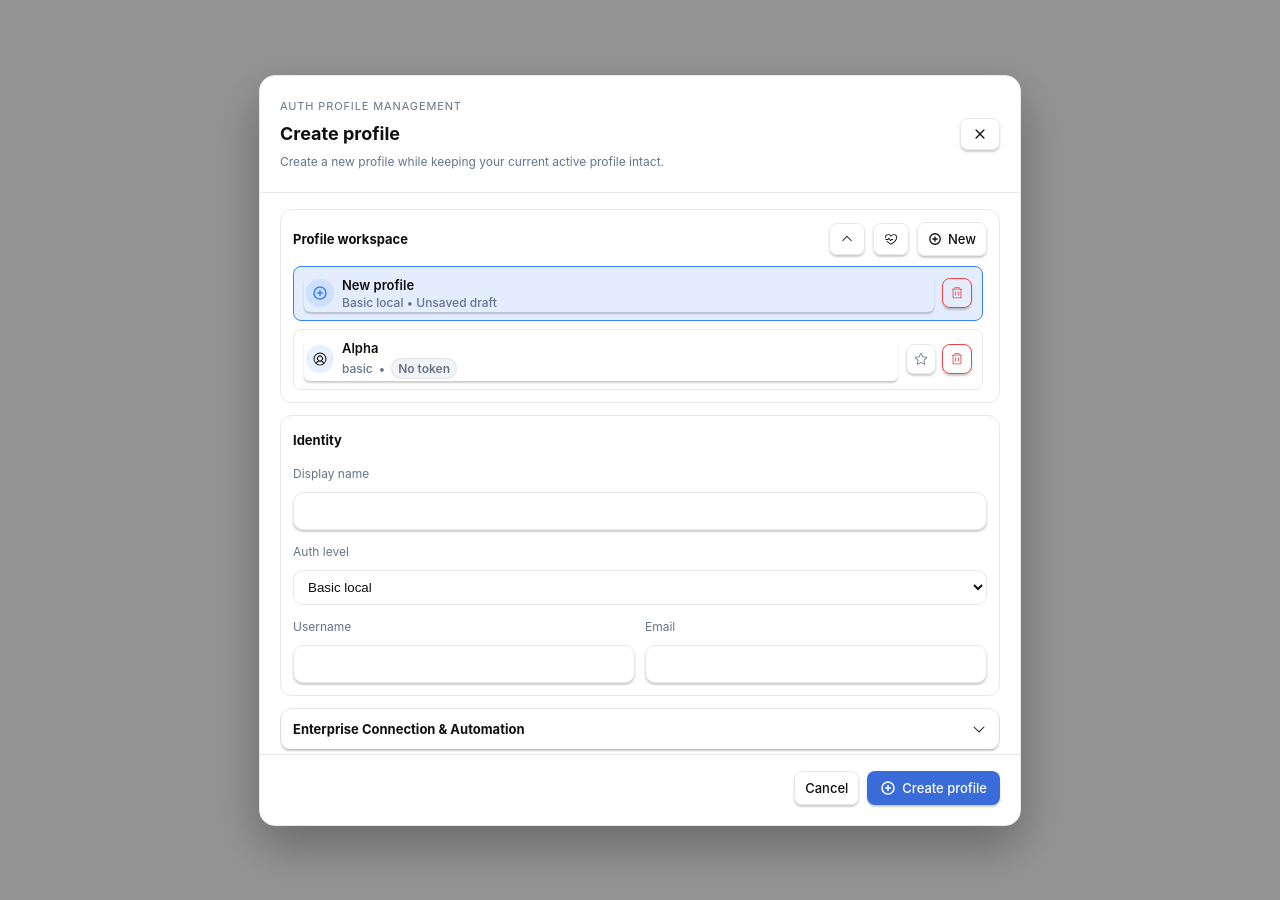
Test case: ProfileManagementModal › keeps the modal open and switches to editing after creating a new profile
This screenshot has width=1280, height=900.
Step 1. Click the button "Create profile" → (934, 788), box x1=867 y1=770 x2=1000 y2=804
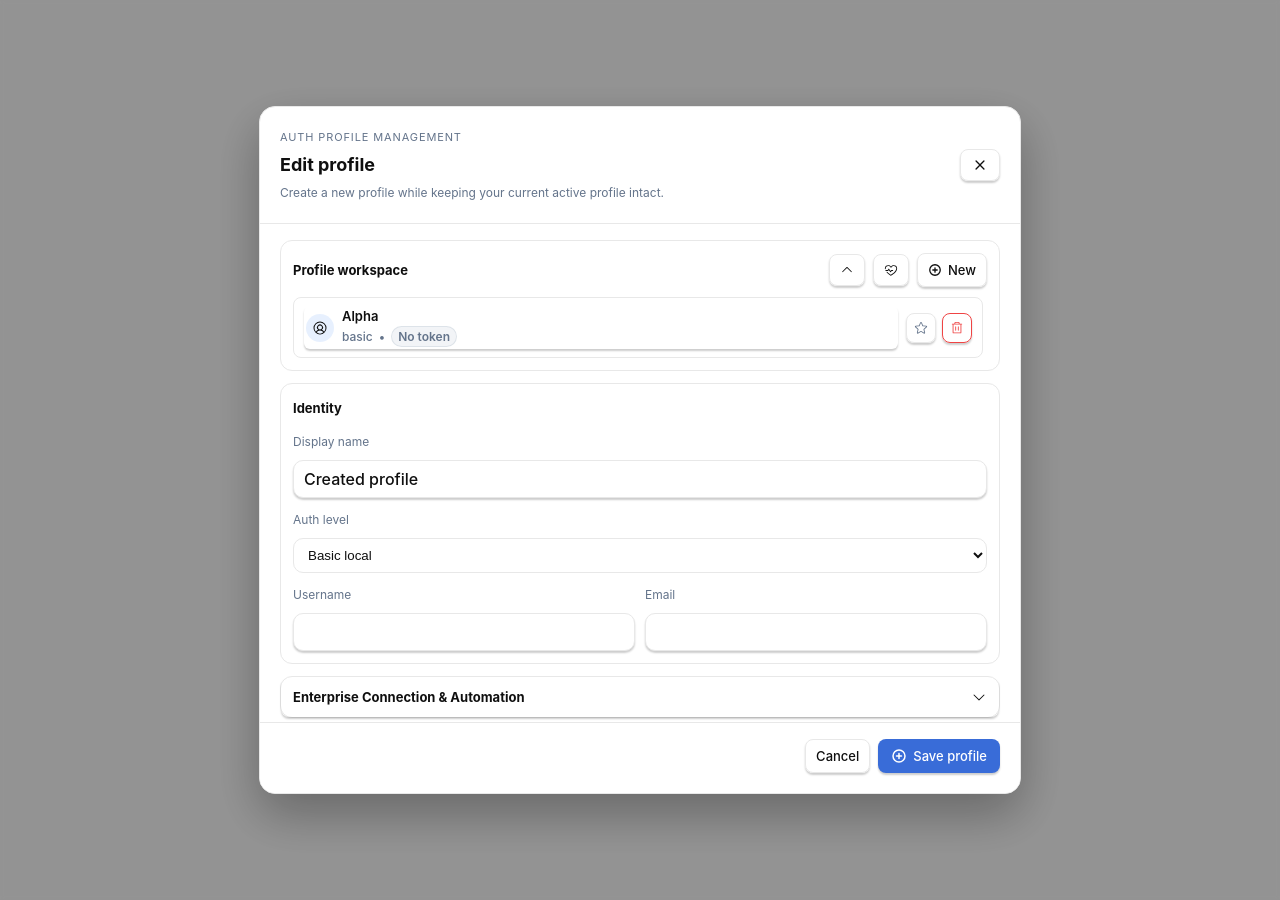
Result: the heading "Edit profile" is shown at x1=280 y1=154 x2=375 y2=175
Result: the field showing "Created profile" is shown at x1=293 y1=460 x2=987 y2=498
